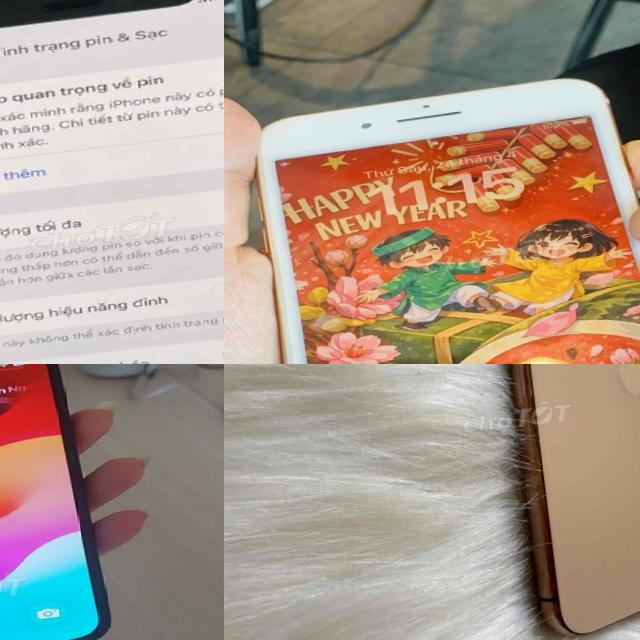gen_11: (467, 364, 640, 640)
gen_12_13: (0, 0, 224, 364)
gen_16: (0, 364, 108, 640)
gen_7_8: (243, 62, 640, 364)
scratch: (284, 91, 491, 138)
